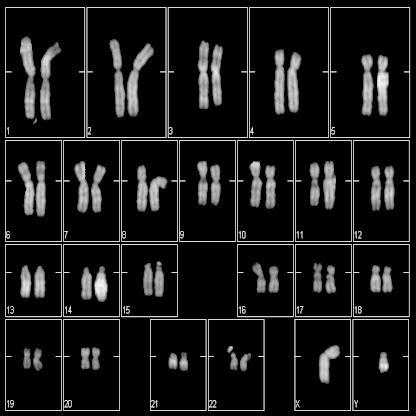1: (18, 33, 38, 122), (40, 33, 60, 122)
10: (247, 158, 264, 210), (263, 158, 280, 210)
11: (308, 158, 321, 214), (322, 158, 334, 214)
12: (368, 161, 384, 217), (384, 161, 398, 217)
13: (20, 262, 34, 302), (34, 262, 48, 302)
14: (94, 263, 108, 304), (80, 263, 94, 303)
15: (142, 258, 153, 302), (154, 258, 165, 302)
16: (249, 262, 268, 296), (267, 260, 285, 294)
17: (310, 260, 324, 296), (325, 259, 339, 295)
18: (366, 260, 382, 296), (383, 261, 399, 297)
19: (21, 344, 34, 375), (33, 344, 46, 375)
2: (127, 34, 155, 118), (106, 35, 127, 119)
20: (78, 346, 90, 374), (90, 346, 102, 374)
21: (165, 349, 179, 372), (179, 349, 193, 372)
22: (225, 340, 240, 375), (239, 340, 254, 375)
3: (196, 36, 210, 112), (210, 36, 224, 112)
4: (270, 44, 288, 116), (287, 46, 304, 116)
5: (360, 51, 374, 118), (376, 52, 390, 118)
6: (16, 158, 35, 216), (36, 158, 54, 218)
7: (72, 158, 90, 216), (90, 158, 107, 216)
8: (149, 163, 169, 215), (134, 162, 149, 216)
9: (195, 158, 209, 209), (209, 158, 223, 209)
X: (316, 343, 343, 385)
Y: (375, 346, 389, 378)
